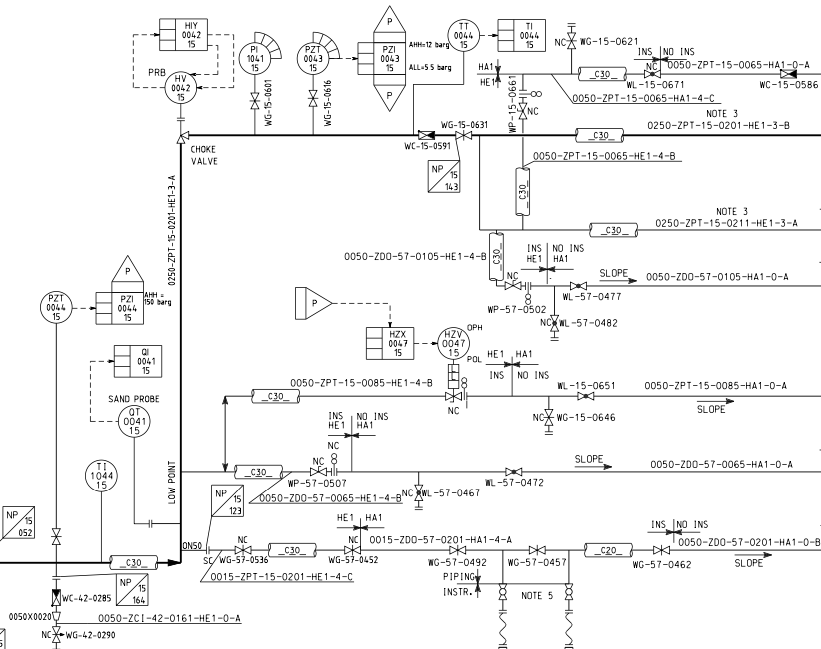Instrument: (445, 15, 481, 55), (38, 290, 78, 325), (294, 39, 331, 76), (163, 69, 200, 106), (237, 38, 272, 77), (116, 404, 154, 439), (84, 457, 119, 494), (437, 325, 472, 360)
Instrument-square: (364, 323, 419, 362), (354, 39, 409, 78), (495, 15, 549, 54), (94, 289, 147, 328), (157, 15, 210, 53), (113, 343, 165, 380)
